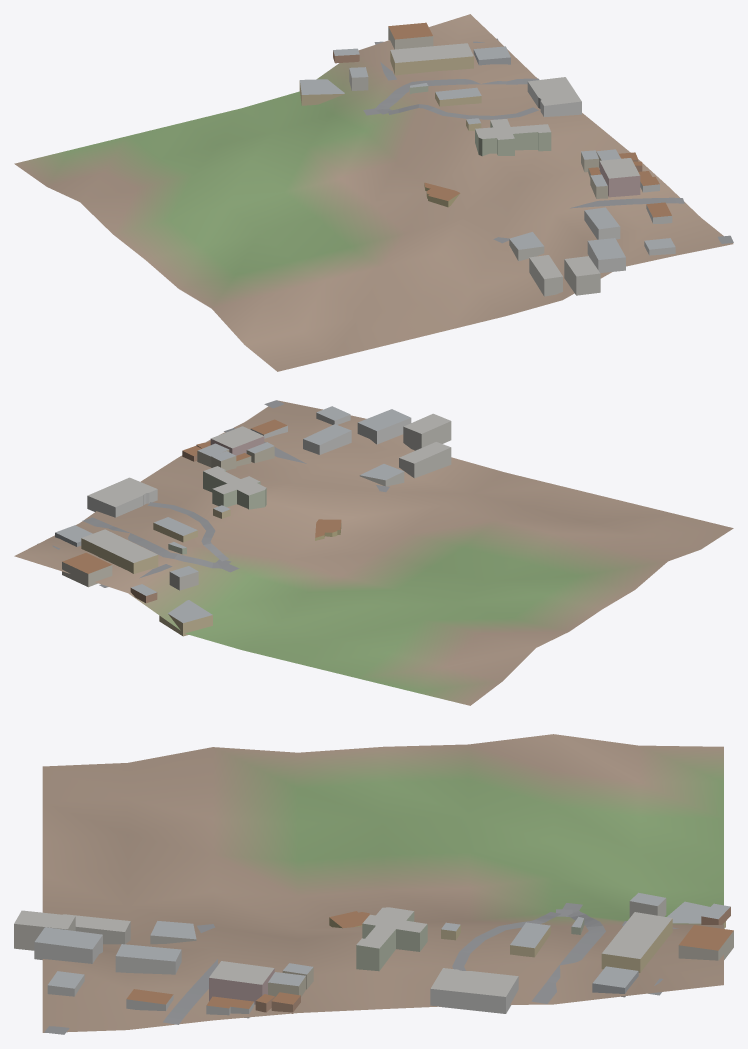
3 views of the same model, one above another, from view 1: azimuth 30°, elevation 25°; view 2: azimuth 150°, elevation 25°; view 3: azimuth 270°, elevation 25° (orthographic). The views are drawn at different scales.
Parts seen in each view (by area): view 1: Lo; view 2: Lo; view 3: Lo.
Part boxes in pixels (left/top/right/bottom): Lo: left=14, top=14, right=733, bottom=371; Lo: left=14, top=400, right=733, bottom=705; Lo: left=14, top=734, right=733, bottom=1034.
Bounding box in the file's own units: 262 × 30.93 × 271.
